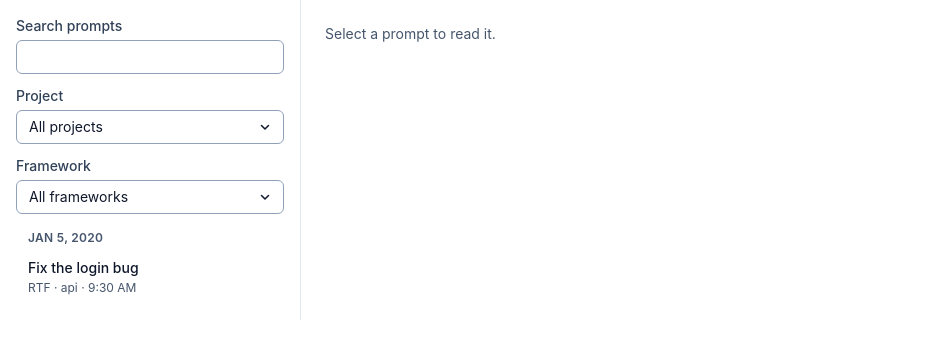
it: EntryDetail › shows_label_meta_and_sections_from_the_snapshot
This screenshot has width=930, height=341.
Click the button "Fix the login bug RTF · api · 9:30 AM". click: click(83, 268)
box: [16,250,284,304]
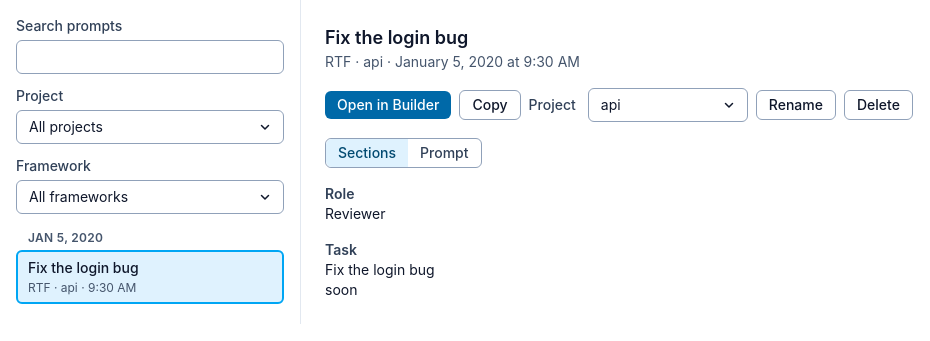
Now the heading "Fix the login bug" is shown, box [325,27,468,48]
Now the headings read "Role", "Task", in this order, box [325,185,354,202]; [325,241,357,258]
